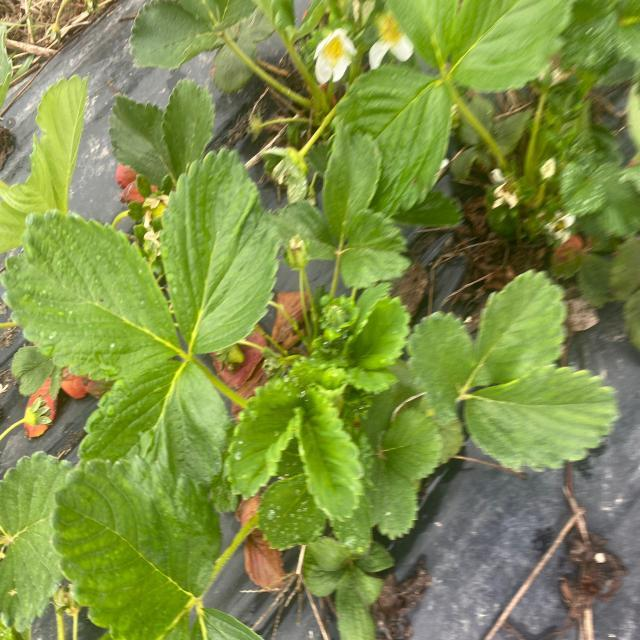flower: (368, 6, 421, 79), (307, 26, 363, 92)
